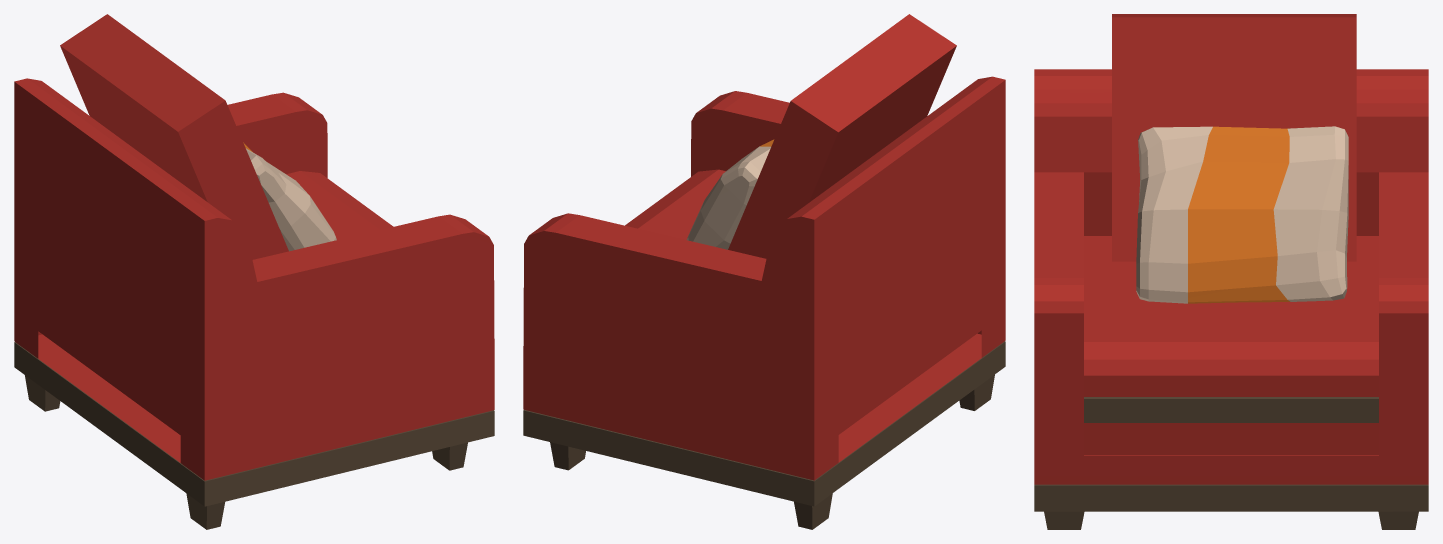
The model's file is SM_Armchair_02.glb.
The picture shows the model from 3 angles, left to right: view 1: azimuth 30°, elevation 25°; view 2: azimuth 150°, elevation 25°; view 3: azimuth 270°, elevation 25°; orthographic projection. The views are drawn at different scales.
Visible parts, largest first — view 1: SM_Armchair_02; view 2: SM_Armchair_02; view 3: SM_Armchair_02.
Part boxes in pixels (<box>): SM_Armchair_02: <box>14,14,494,529</box>; SM_Armchair_02: <box>523,14,1005,529</box>; SM_Armchair_02: <box>1034,14,1428,529</box>.
Size of the model in its own units: 0.9318 by 1.21 by 1.06.
Materials: 1 (1 with a texture image).
